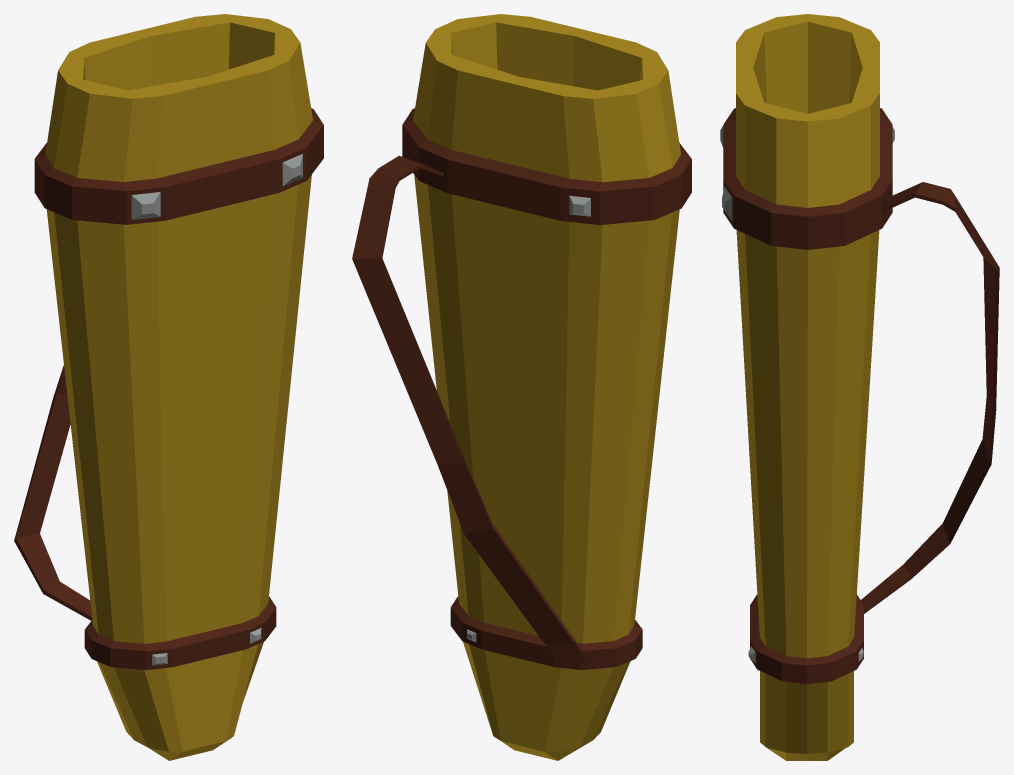
Rendered from Quiver1.glb.
3 views of the same model, side by side, from view 1: azimuth 30°, elevation 25°; view 2: azimuth 150°, elevation 25°; view 3: azimuth 270°, elevation 25° (orthographic).
Parts seen in each view (by area): view 1: Cube; view 2: Cube; view 3: Cube.
Boxes of the visible parts, x1,y1,x2,y2 form: Cube: (14, 14, 323, 760); Cube: (352, 14, 691, 760); Cube: (720, 14, 999, 760).
Bounding box in the file's own units: 0.2783 × 0.6838 × 0.2539.
